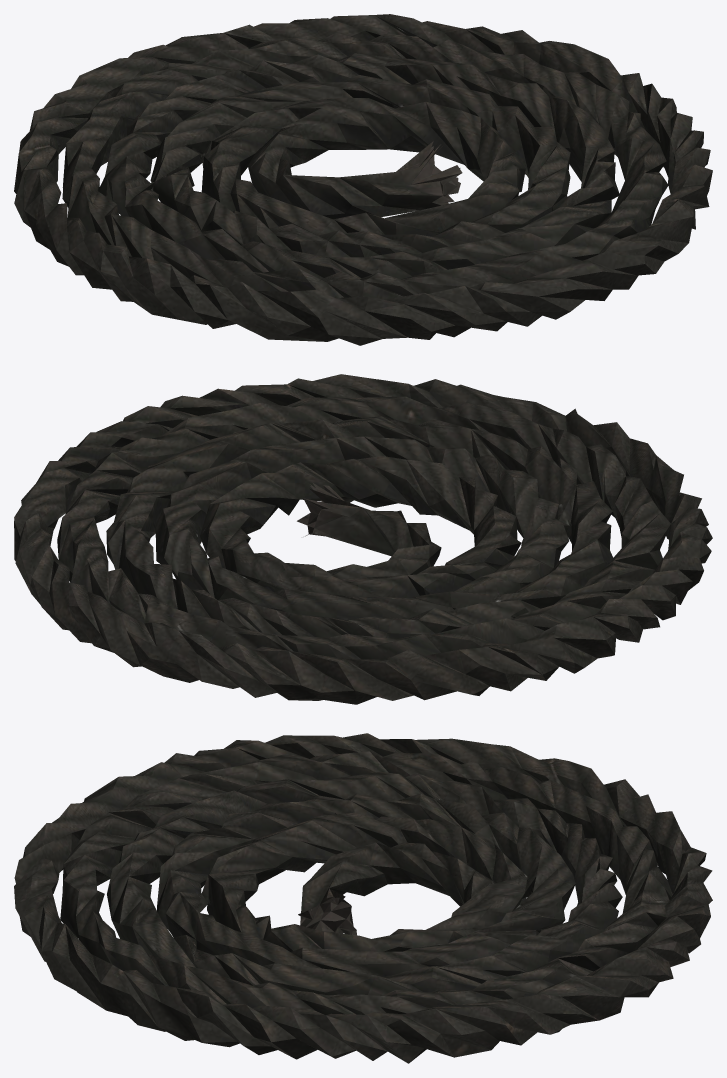
The model's file is rope_coil.glb.
The picture shows the model from 3 angles, top to bottom: view 1: azimuth 30°, elevation 25°; view 2: azimuth 150°, elevation 25°; view 3: azimuth 270°, elevation 25°; orthographic projection.
Parts seen in each view (by area): view 1: output_unwrapped; view 2: output_unwrapped; view 3: output_unwrapped.
Boxes of the visible parts, x1=… form: output_unwrapped: x1=14, y1=14, x2=712, y2=345; output_unwrapped: x1=14, y1=374, x2=712, y2=704; output_unwrapped: x1=14, y1=733, x2=712, y2=1063.
Bounding box in the file's own units: 0.7 × 0.0648 × 0.6999.
Materials: 1 (1 with a texture image).
